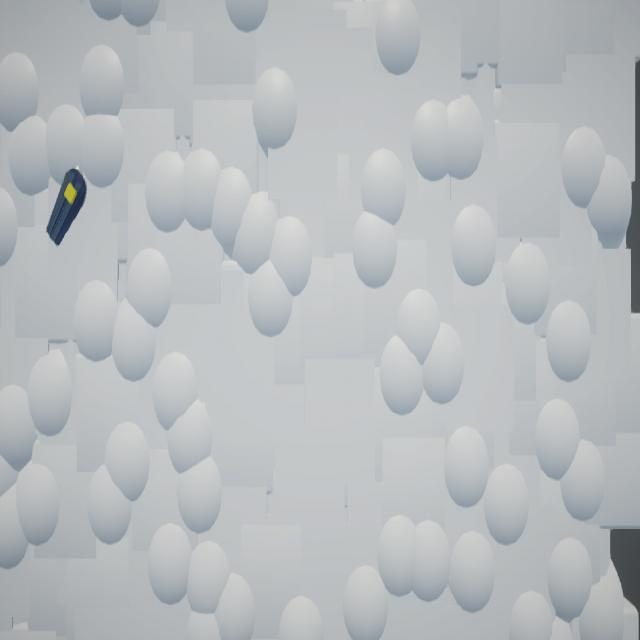handle_folk: (47, 169, 88, 248)
